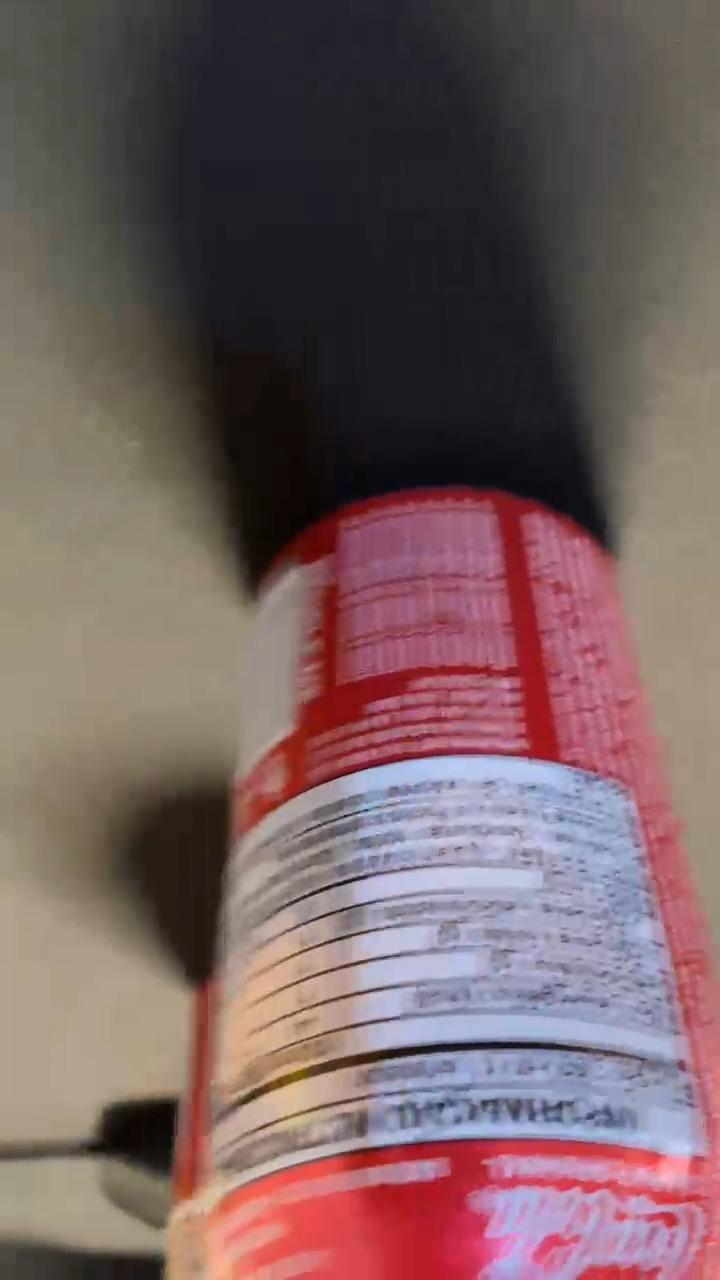coke: (176, 490, 714, 1280), (163, 968, 214, 1263)
